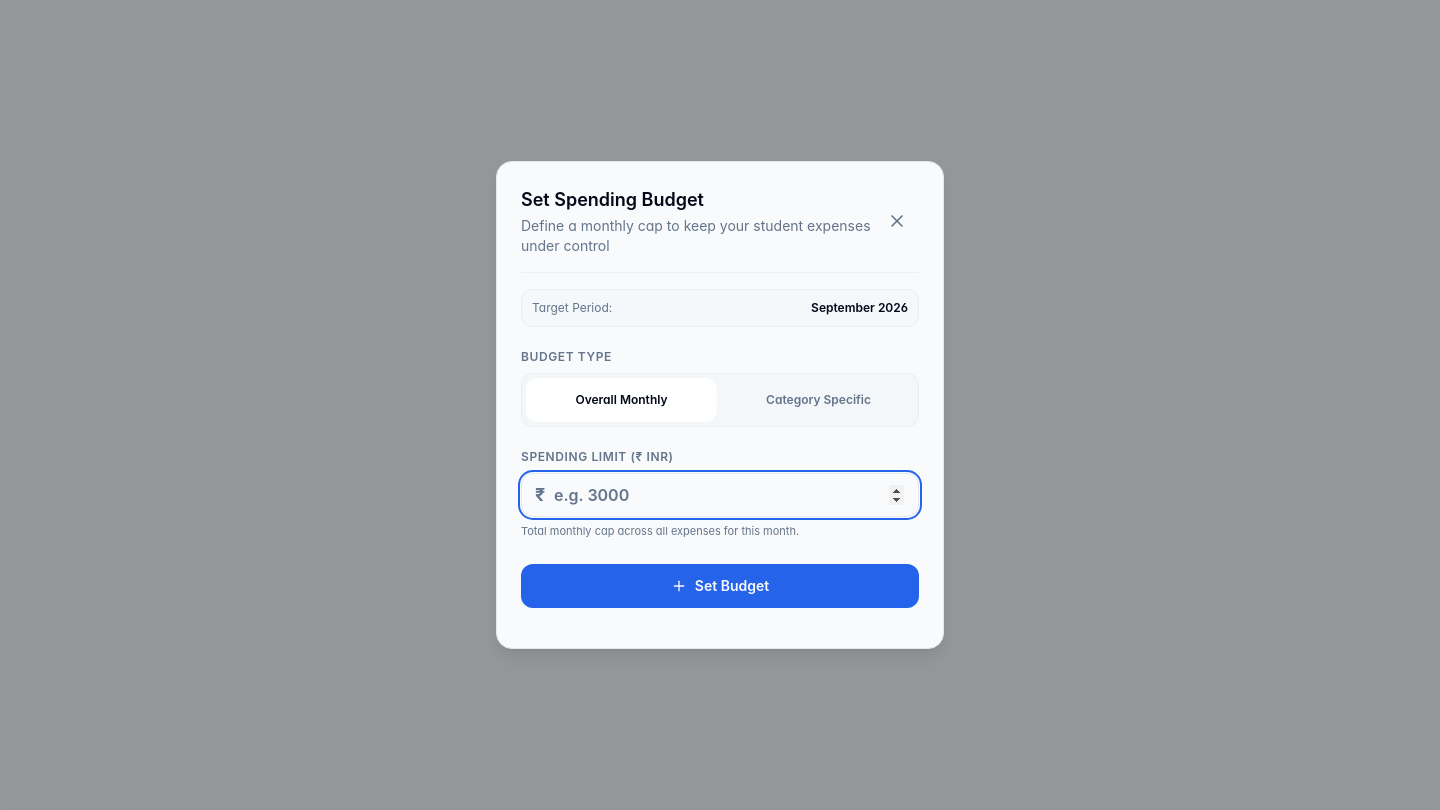
Test: Phase 4 - Budgets & Spending Limits Frontend Suite › 4. BudgetFormSheet Component › validates empty and non-positive budget amount inputs
This screenshot has width=1440, height=810.
Expected: the heading "Set Spending Budget" is shown, [521,189,704,210]
Submit the form named "Spending Limit", box [521,289,919,608]
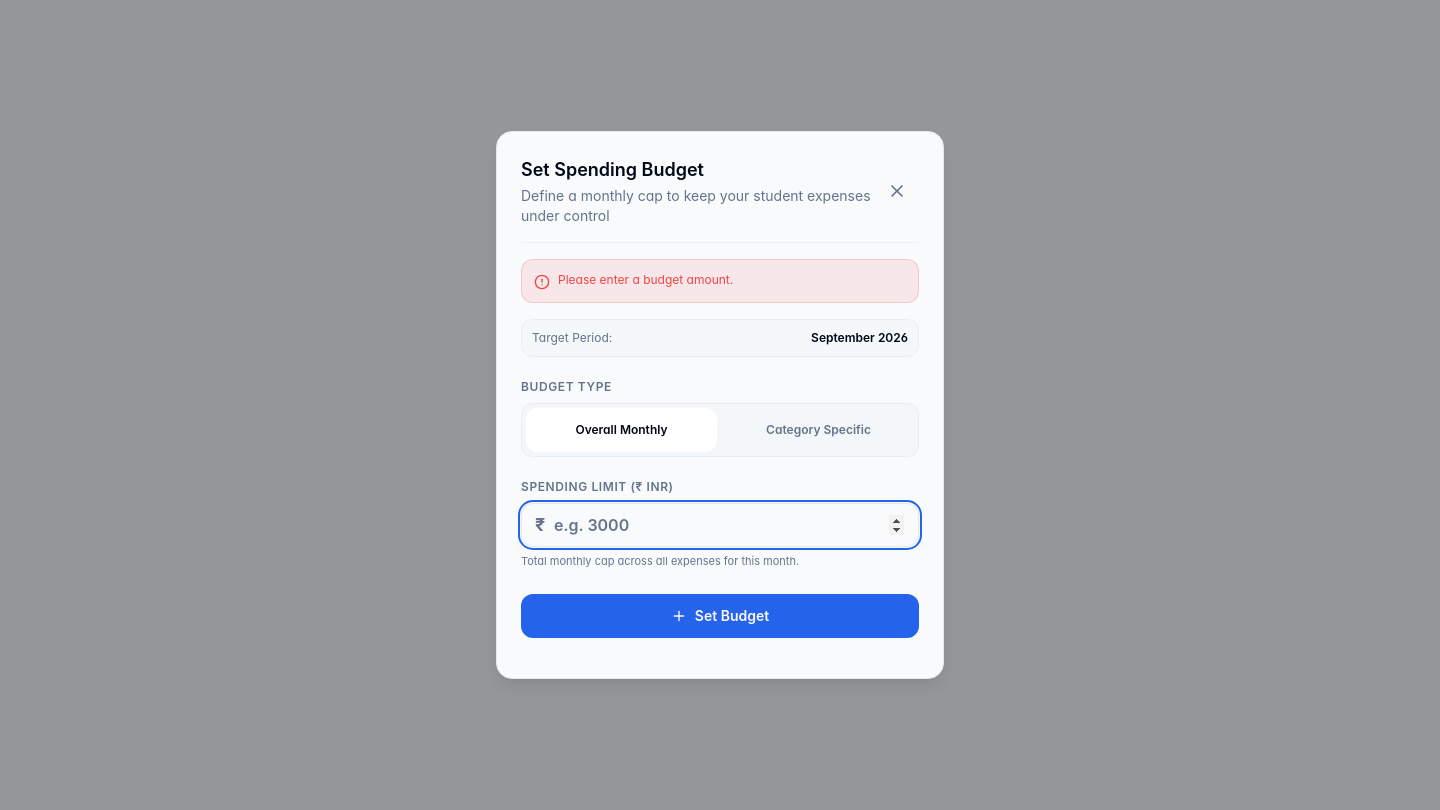
Expected: the text "Please enter a budget amount." is shown, [558,272,733,289]
Zero amount
In the number field labelled "Spending Limit (₹ INR)": x=720, y=525 [521,503,919,547], type "0"
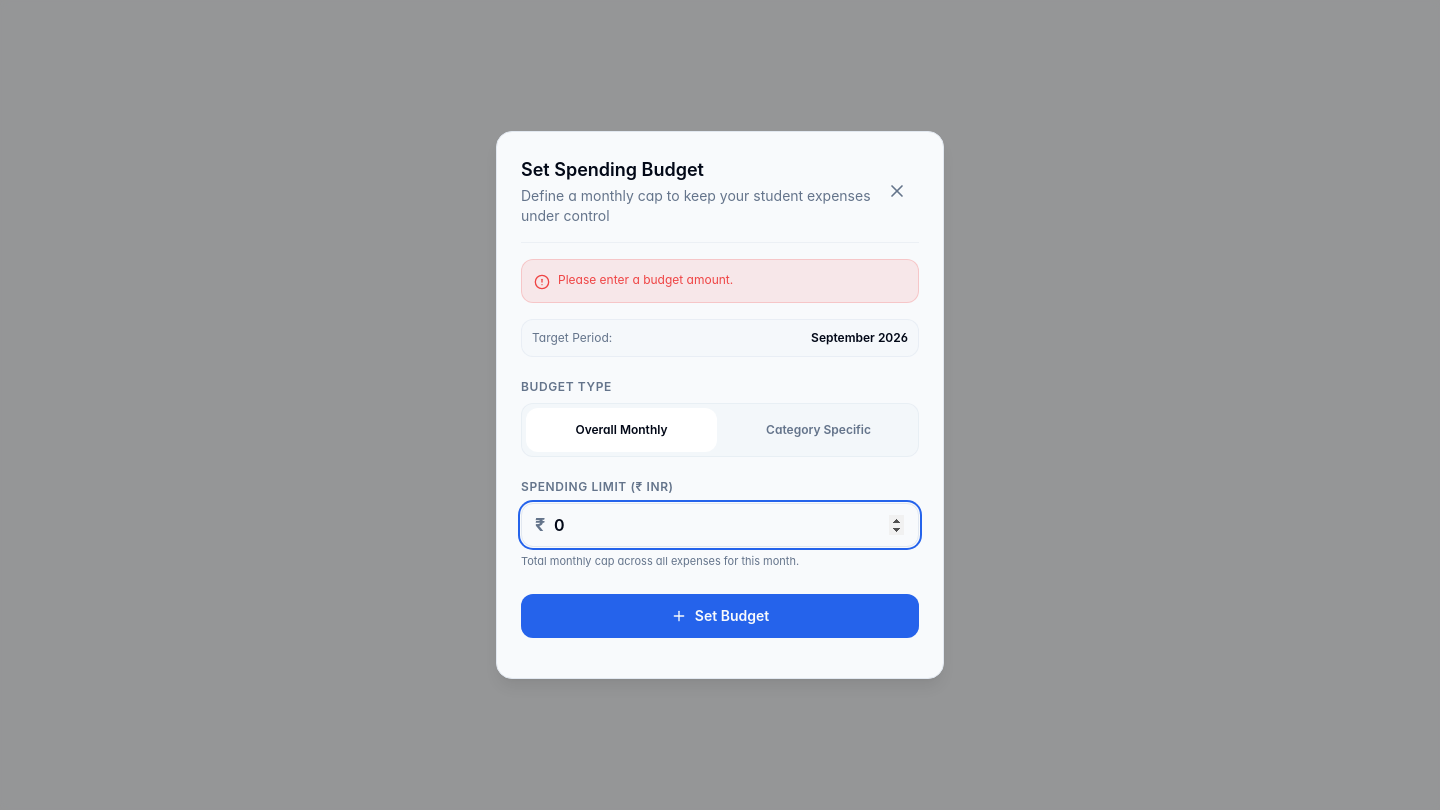
Submit the form named "Spending Limit", box [521,259,919,638]
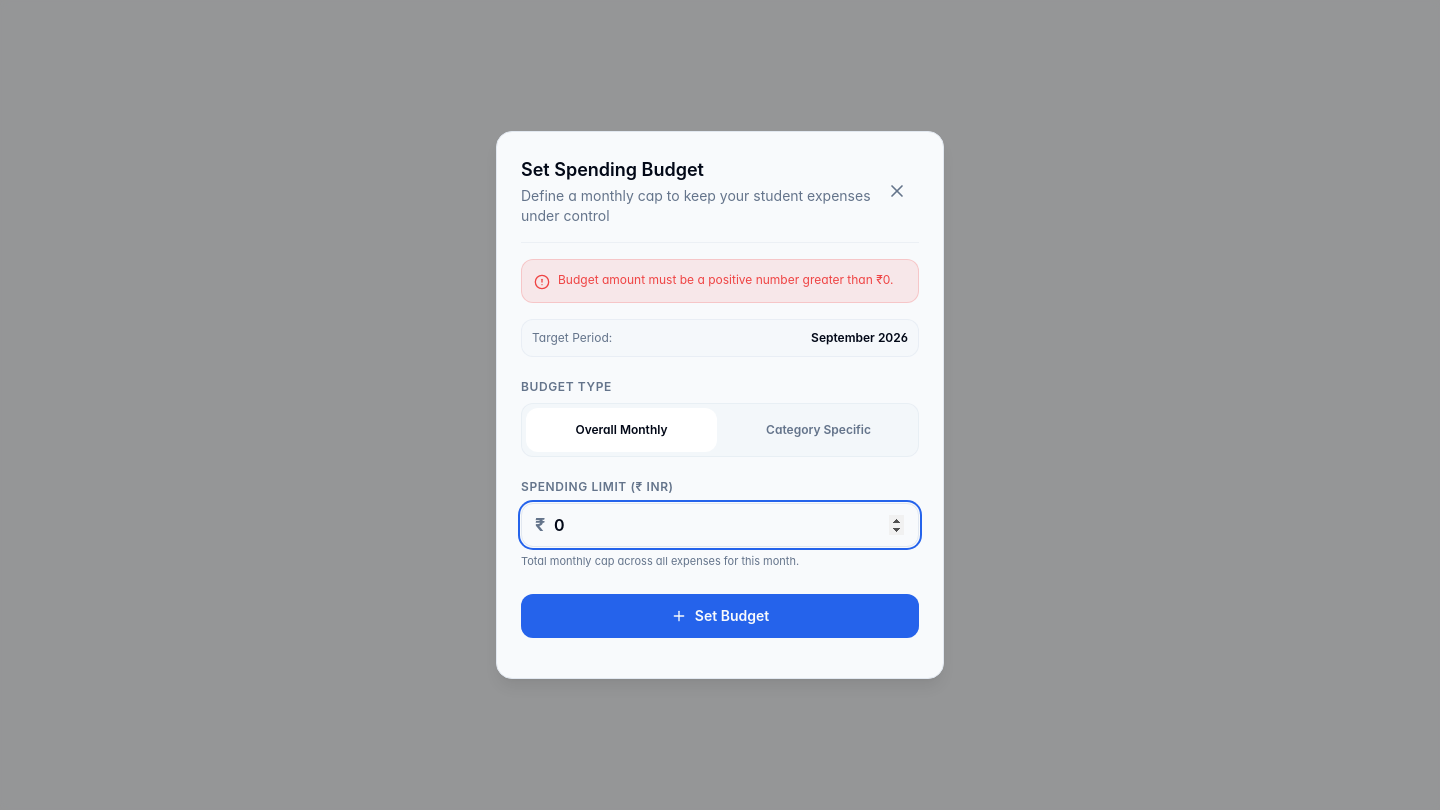
Expected: the text "Budget amount must be a positive number greater than ₹0." is shown, [558,272,893,289]
